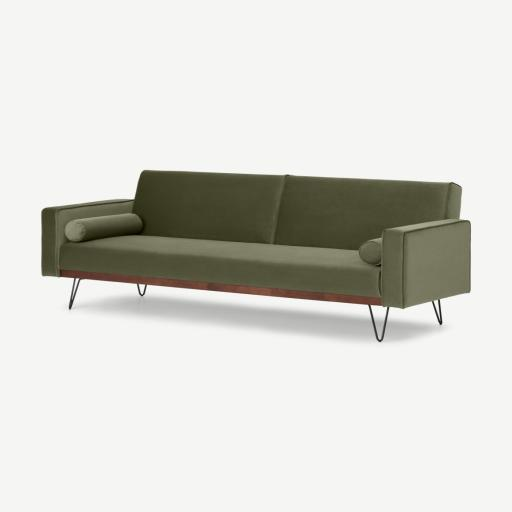back_cushion: (135, 171, 453, 249)
left_arm: (381, 220, 470, 308)
legs: (368, 305, 389, 342), (68, 278, 82, 309), (432, 302, 441, 324), (137, 283, 147, 296)
right_arm: (42, 199, 133, 277)
seat_cushion: (60, 235, 380, 298)
two-seater: (0, 0, 511, 512)
